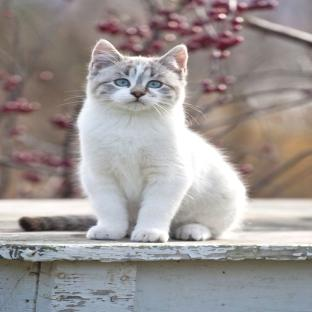Animal: (78, 39, 246, 242)
